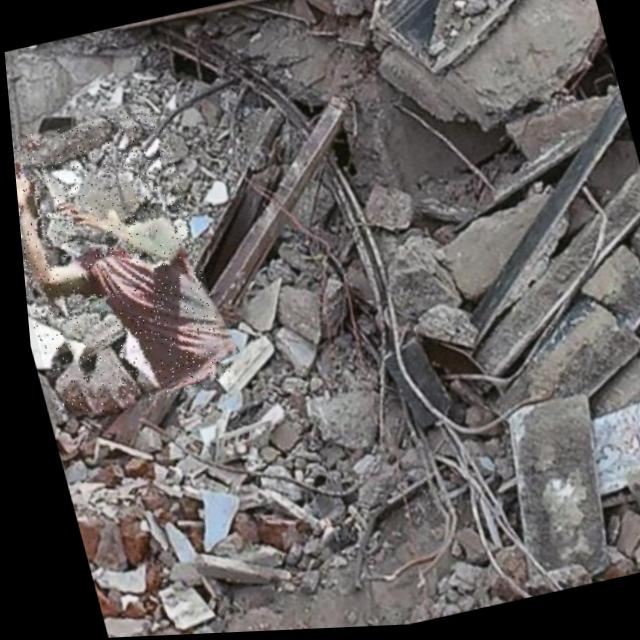Person in Rubble: (8, 104, 227, 421)
